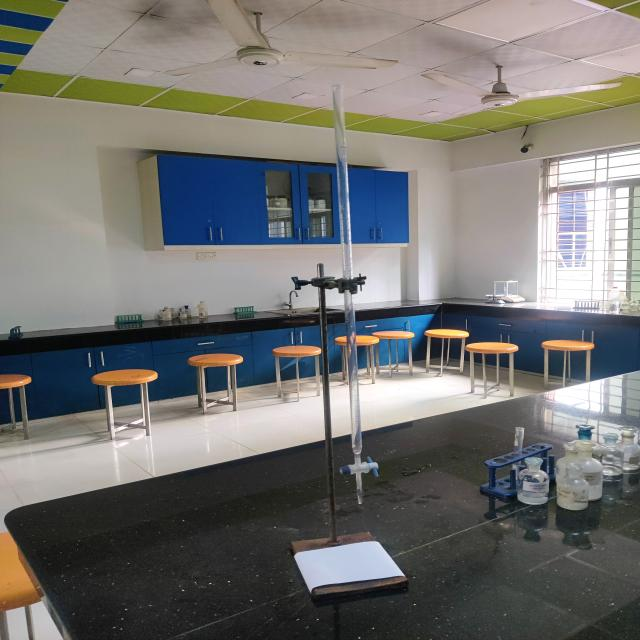Burette_Stands: (270, 253, 419, 604)
